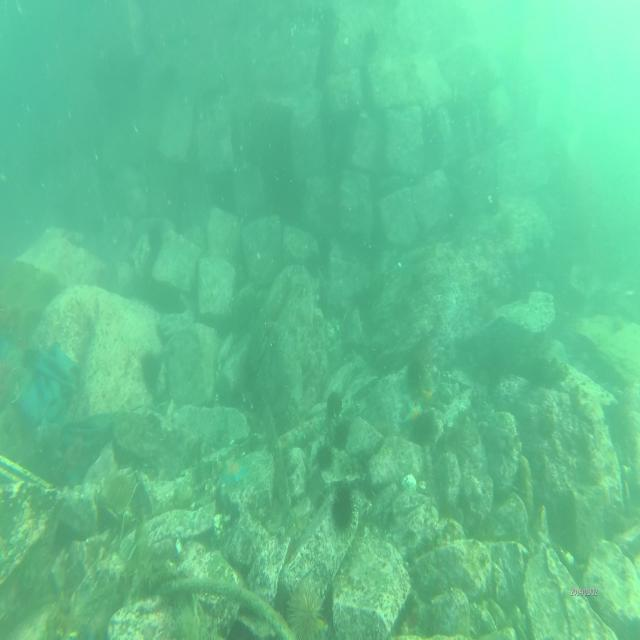echinus: (288, 583, 324, 636), (331, 480, 356, 534), (140, 348, 165, 390), (406, 354, 429, 390), (412, 412, 434, 446), (316, 436, 337, 470), (326, 386, 344, 419), (334, 418, 352, 450)
scallop: (400, 472, 420, 494)
starfish: (221, 458, 248, 490), (400, 398, 421, 429)
